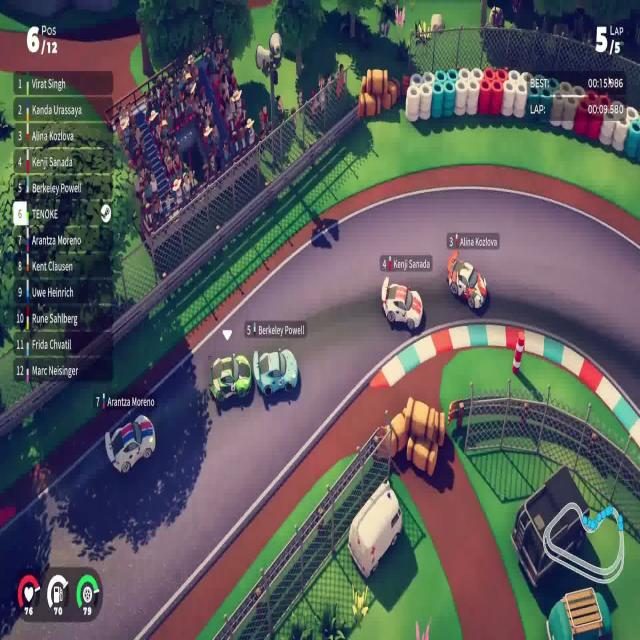car: (104, 412, 156, 475), (446, 249, 488, 312), (381, 275, 424, 332), (252, 346, 299, 398), (208, 351, 252, 405)
